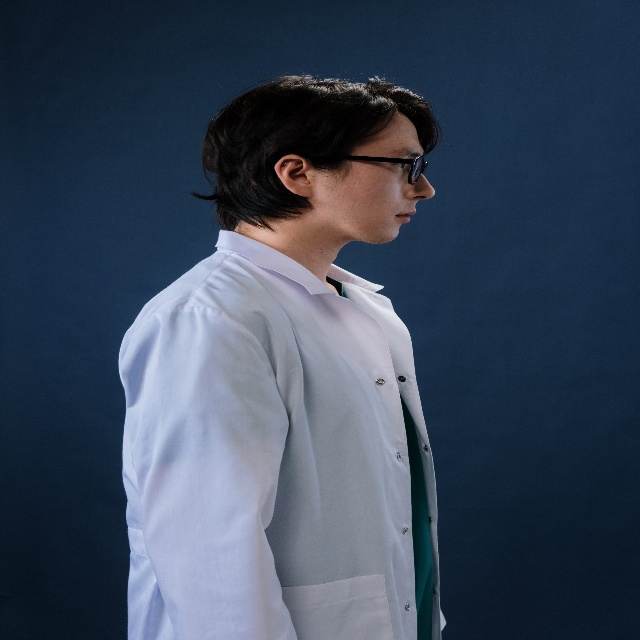Gafas: (343, 147, 428, 183)
